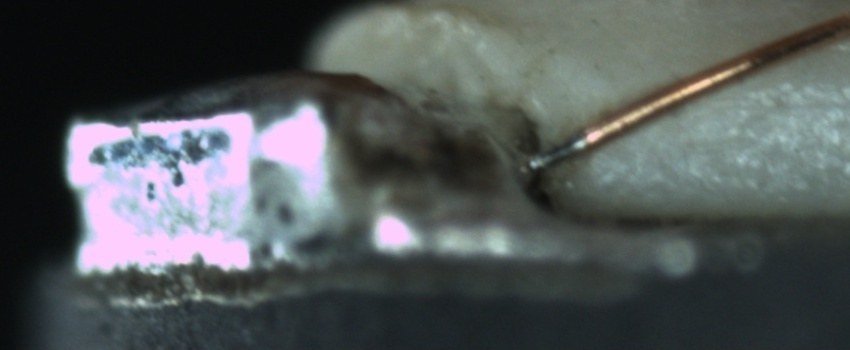DL: (704, 71, 849, 134)
TS: (528, 132, 591, 170)
TTCW: (523, 117, 610, 173)
